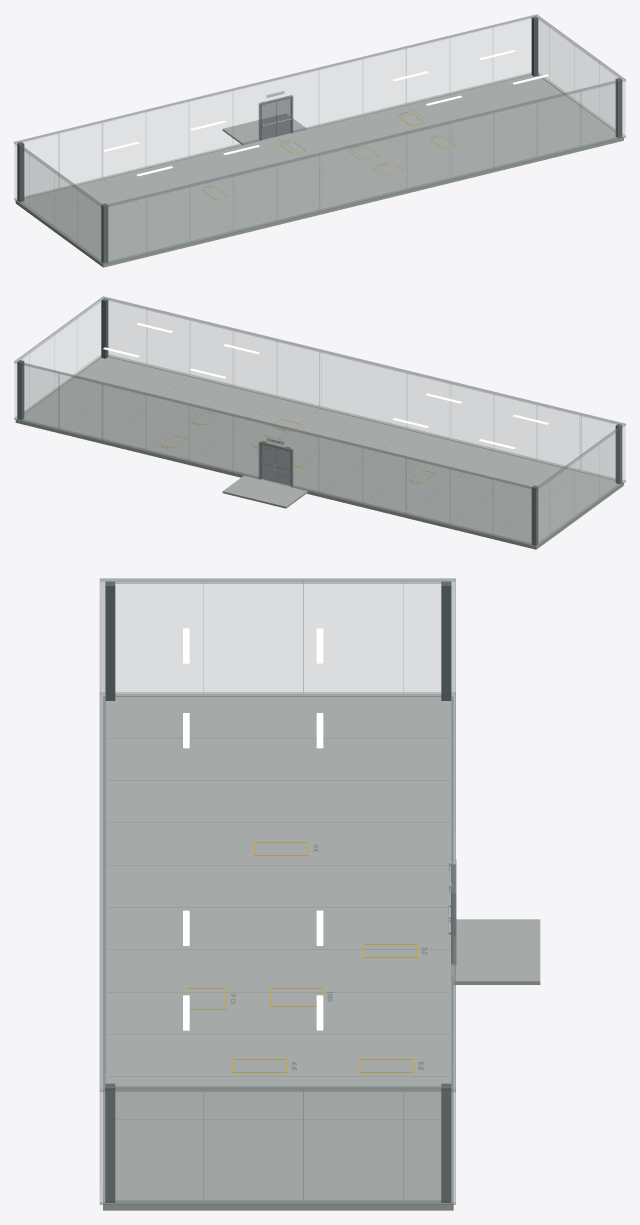
Rendered from fab1-room-subfab-south.glb.
The picture shows the model from 3 angles, top to bottom: view 1: azimuth 30°, elevation 25°; view 2: azimuth 150°, elevation 25°; view 3: azimuth 270°, elevation 25°; orthographic projection. The views are drawn at different scales.
Visible parts, largest first — view 1: FAB1_Room_subfab_south_Walls, FAB1_Room_subfab_south_Slab, FAB1_Room_subfab_south_EntryApron, FAB1_Room_subfab_south_Door_Leaf2, FAB1_Room_subfab_south_Door_Leaf1, FAB1_Room_subfab_south_Column_(17.78, -1.72), FAB1_Room_subfab_south_Column_(-17.78, -11.78), FAB1_Room_subfab_south_Column_(17.78, -11.78), FAB1_Room_subfab_south_Column_(-17.78, -1.72); view 2: FAB1_Room_subfab_south_Walls, FAB1_Room_subfab_south_Slab, FAB1_Room_subfab_south_EntryApron, FAB1_Room_subfab_south_Door_Leaf2, FAB1_Room_subfab_south_Door_Leaf1, FAB1_Room_subfab_south_Column_(-17.78, -11.78), FAB1_Room_subfab_south_Column_(17.78, -1.72), FAB1_Room_subfab_south_Column_(-17.78, -1.72), FAB1_Room_subfab_south_Column_(17.78, -11.78); view 3: FAB1_Room_subfab_south_Slab, FAB1_Room_subfab_south_Walls, FAB1_Room_subfab_south_EntryApron, FAB1_Room_subfab_south_Column_(17.78, -1.72), FAB1_Room_subfab_south_Column_(17.78, -11.78), FAB1_Room_subfab_south_Column_(-17.78, -1.72), FAB1_Room_subfab_south_Column_(-17.78, -11.78).
Part boxes in pixels (left/top/right/bottom): FAB1_Room_subfab_south_Walls: left=14, top=14, right=625, bottom=264; FAB1_Room_subfab_south_Slab: left=15, top=74, right=623, bottom=267; FAB1_Room_subfab_south_EntryApron: left=222, top=113, right=306, bottom=144; FAB1_Room_subfab_south_Door_Leaf2: left=276, top=98, right=291, bottom=136; FAB1_Room_subfab_south_Door_Leaf1: left=261, top=102, right=276, bottom=139; FAB1_Room_subfab_south_Column_(17.78, -1.72): left=531, top=16, right=538, bottom=76; FAB1_Room_subfab_south_Column_(-17.78, -11.78): left=101, top=203, right=108, bottom=263; FAB1_Room_subfab_south_Column_(17.78, -11.78): left=615, top=78, right=622, bottom=137; FAB1_Room_subfab_south_Column_(-17.78, -1.72): left=17, top=142, right=24, bottom=201; FAB1_Room_subfab_south_Walls: left=14, top=296, right=625, bottom=546; FAB1_Room_subfab_south_Slab: left=15, top=357, right=623, bottom=549; FAB1_Room_subfab_south_EntryApron: left=222, top=475, right=307, bottom=508; FAB1_Room_subfab_south_Door_Leaf2: left=261, top=444, right=276, bottom=482; FAB1_Room_subfab_south_Door_Leaf1: left=276, top=448, right=290, bottom=485; FAB1_Room_subfab_south_Column_(-17.78, -11.78): left=615, top=424, right=622, bottom=484; FAB1_Room_subfab_south_Column_(17.78, -1.72): left=17, top=360, right=24, bottom=419; FAB1_Room_subfab_south_Column_(-17.78, -1.72): left=531, top=485, right=538, bottom=545; FAB1_Room_subfab_south_Column_(17.78, -11.78): left=101, top=298, right=108, bottom=358; FAB1_Room_subfab_south_Slab: left=103, top=696, right=453, bottom=1210; FAB1_Room_subfab_south_Walls: left=99, top=578, right=456, bottom=1204; FAB1_Room_subfab_south_EntryApron: left=454, top=919, right=540, bottom=984; FAB1_Room_subfab_south_Column_(17.78, -1.72): left=441, top=1083, right=451, bottom=1202; FAB1_Room_subfab_south_Column_(17.78, -11.78): left=105, top=1083, right=115, bottom=1202; FAB1_Room_subfab_south_Column_(-17.78, -1.72): left=441, top=581, right=451, bottom=700; FAB1_Room_subfab_south_Column_(-17.78, -11.78): left=105, top=581, right=115, bottom=700.
Size of what is drawn, in the model's own units: 36.16 by 4.22 by 13.2.
Materials: 6 (1 with a texture image).
